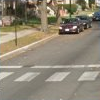crosswalk: (0, 71, 100, 85)
